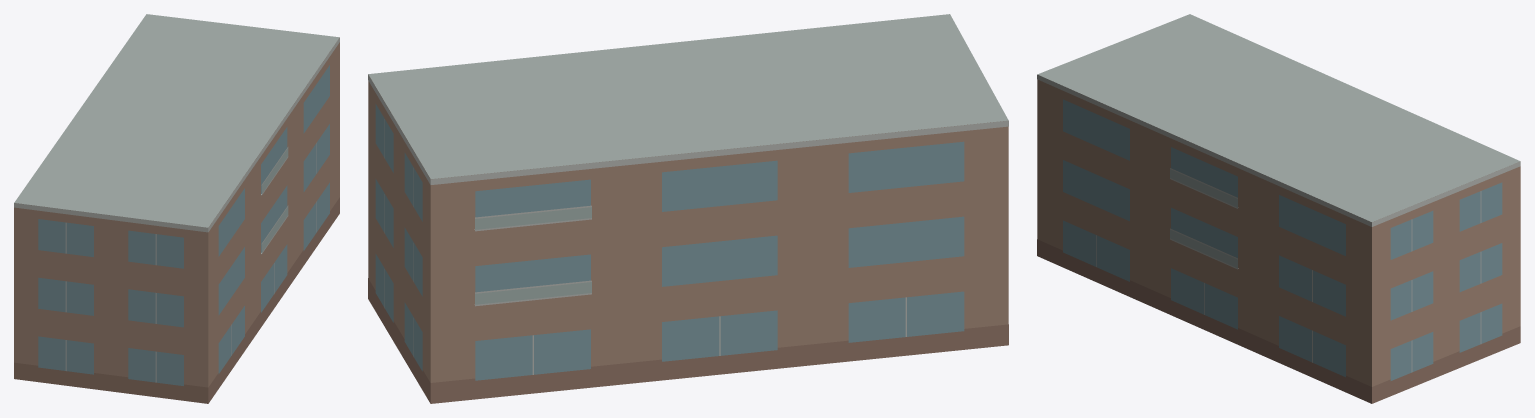
The model's file is survey-upis-32710558.glb.
3 views of the same model, side by side, from view 1: azimuth 30°, elevation 25°; view 2: azimuth 150°, elevation 25°; view 3: azimuth 270°, elevation 25° (orthographic). The views are drawn at different scales.
Visible parts, largest first — view 1: survey-upis-32710558.tmp; view 2: survey-upis-32710558.tmp; view 3: survey-upis-32710558.tmp.
Part boxes in pixels (left/top/right/bottom): survey-upis-32710558.tmp: left=14, top=14, right=339, bottom=403; survey-upis-32710558.tmp: left=368, top=14, right=1008, bottom=403; survey-upis-32710558.tmp: left=1037, top=14, right=1520, bottom=403.
Size of the model in its own units: 22.51 by 9.15 by 22.08.
